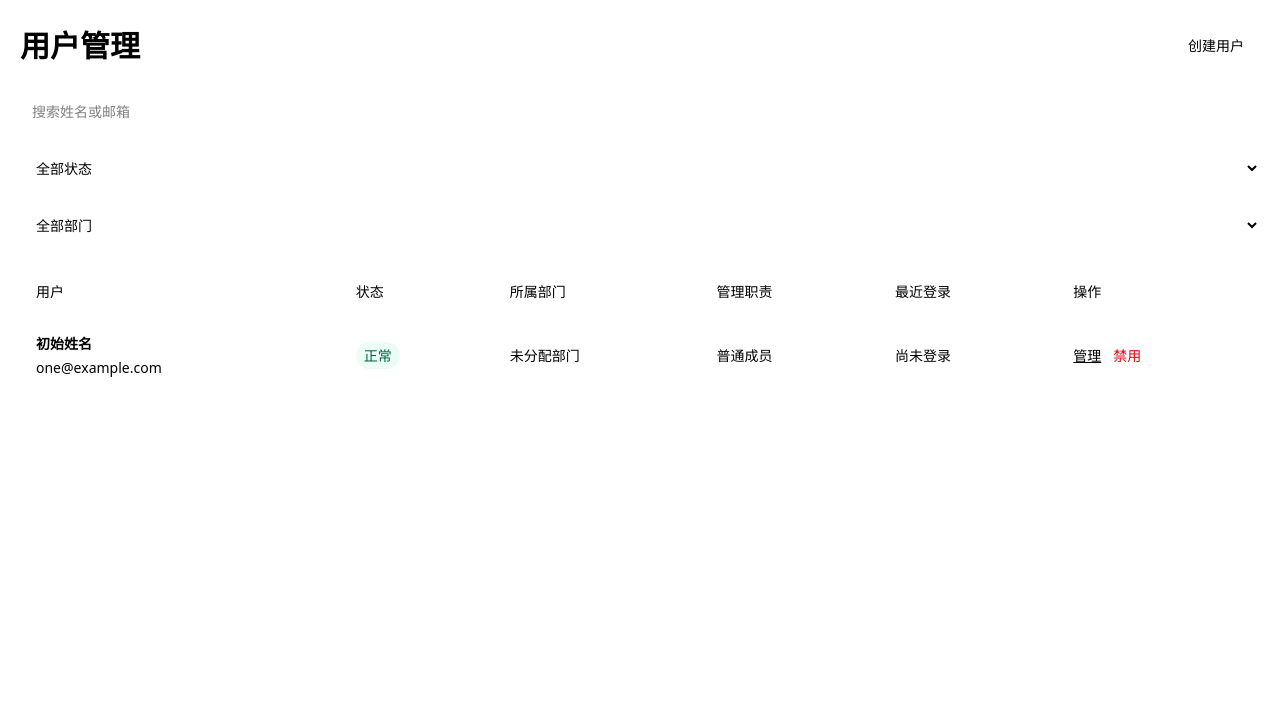
Test: 资料版本冲突自动获取最新数据但保留当前草稿直到管理员确认
The width and height of the screenshot is (1280, 720).
Click the button "初始姓名" at (64, 344), box [36, 334, 92, 354]
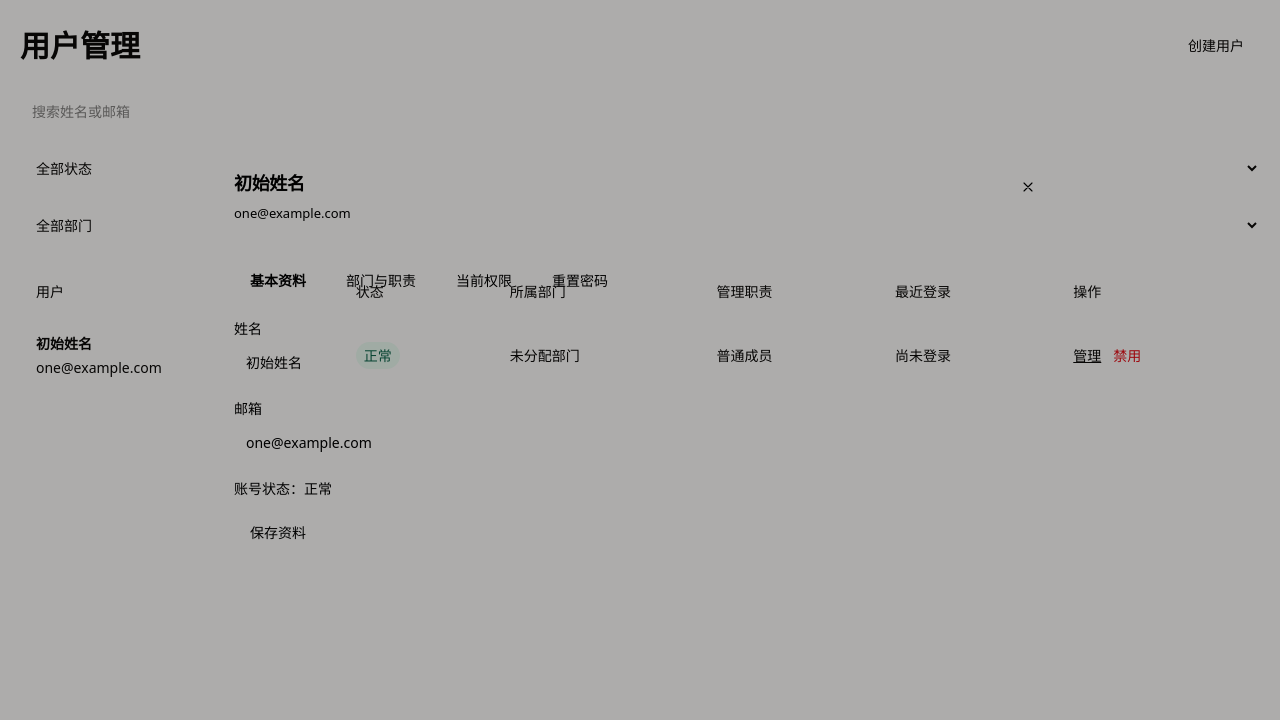
Replace the text in the field labelled "姓名" with "本地草稿" at (640, 363), box [234, 343, 1046, 383]
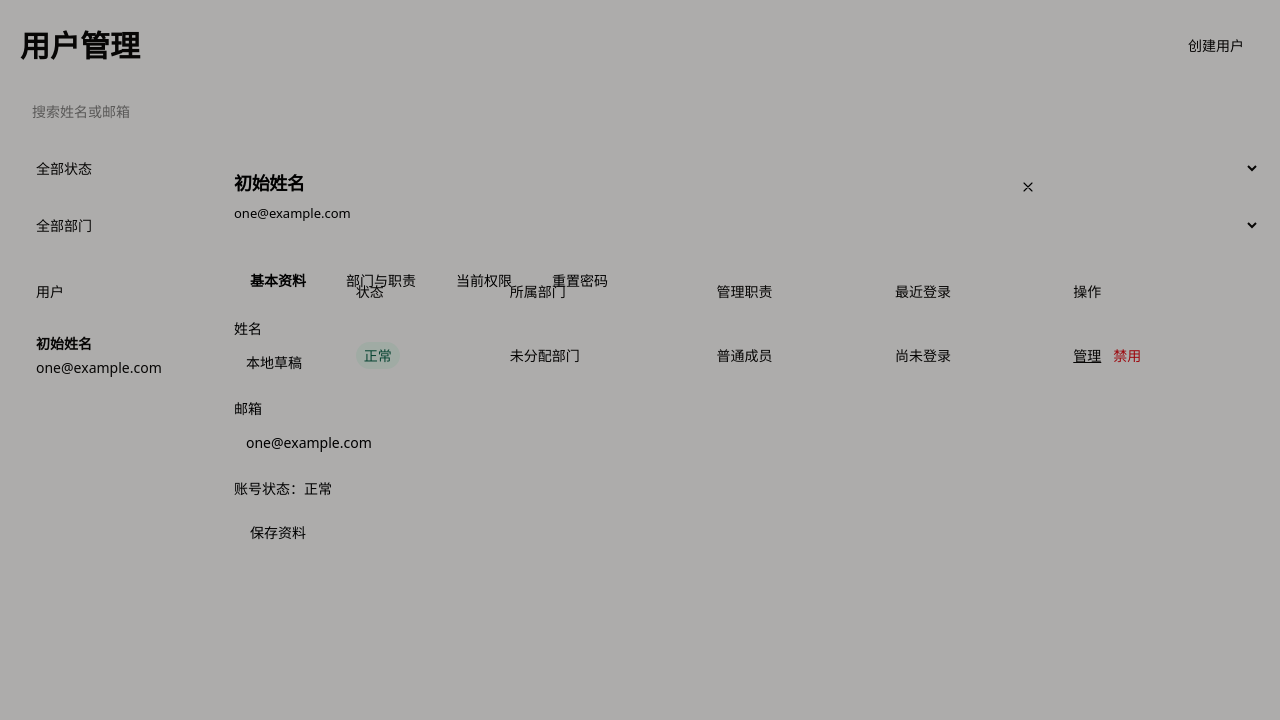
Click the button "保存资料" at (278, 533), box [234, 515, 322, 551]
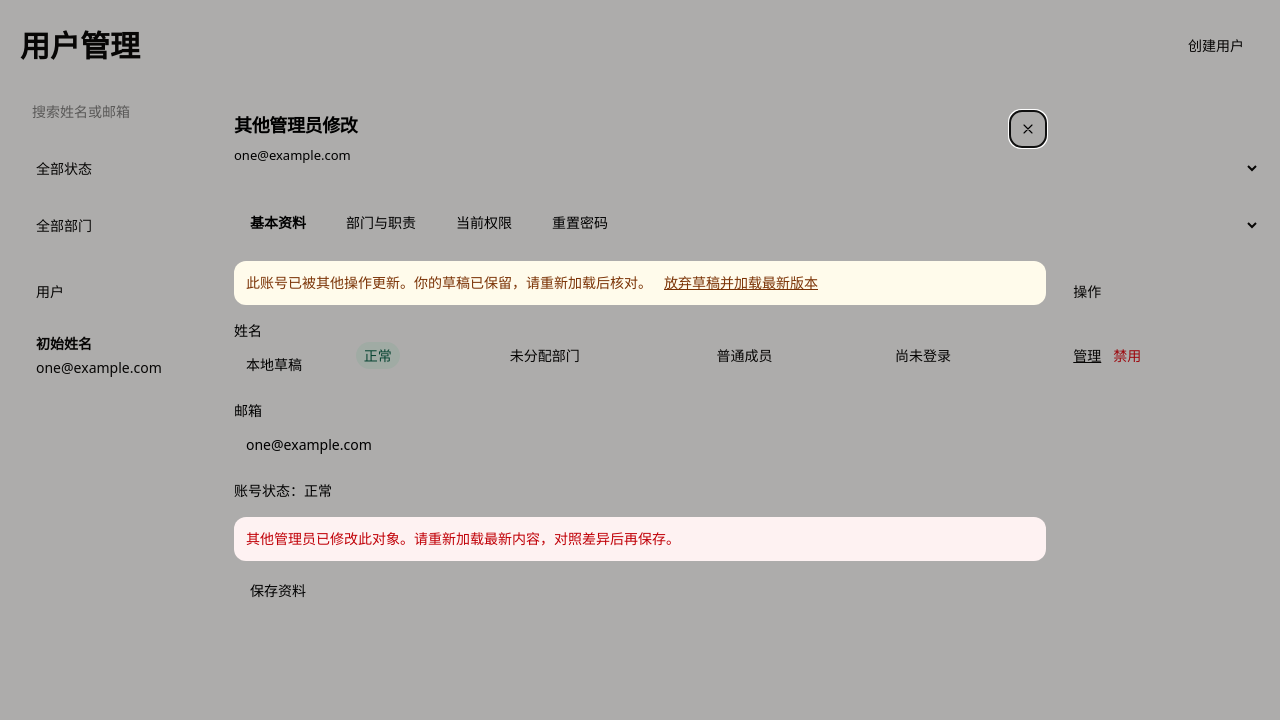
Check: the button "放弃草稿并加载最新版本" is shown
Click the button "放弃草稿并加载最新版本" at (741, 283), box [664, 273, 818, 293]
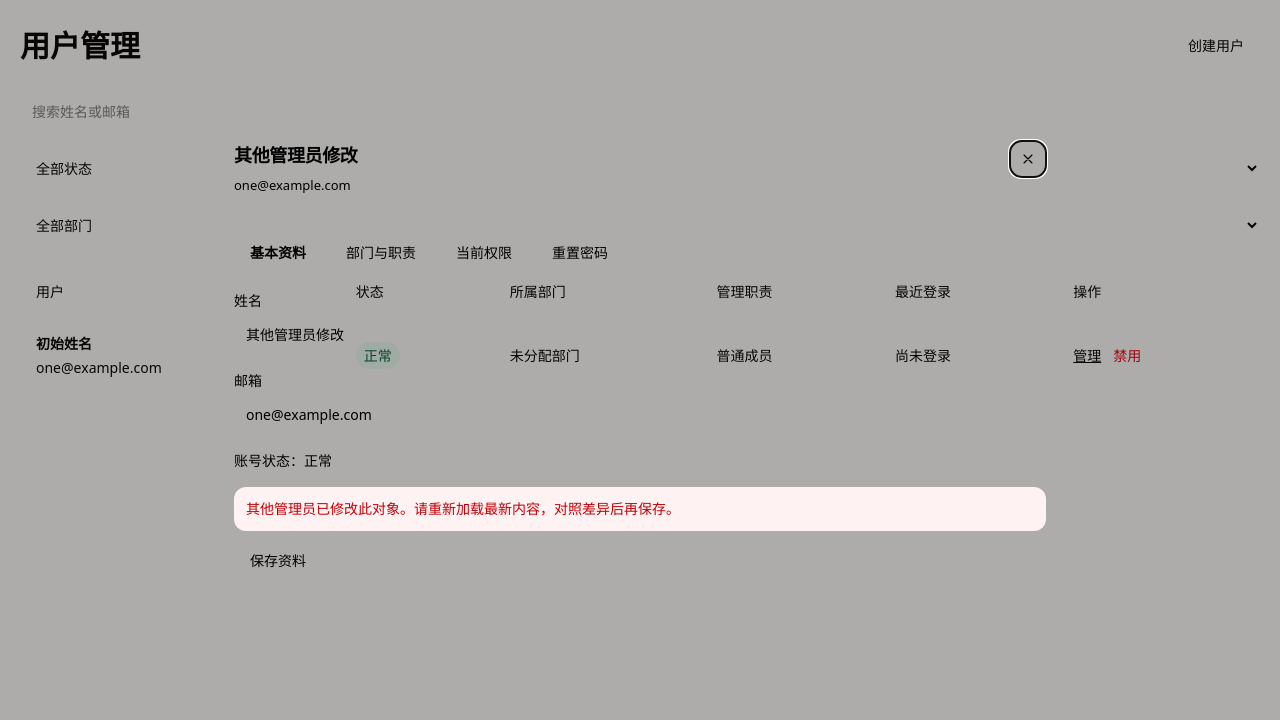
Check: the field labelled "姓名" holds "其他管理员修改", box [234, 315, 1046, 355]
